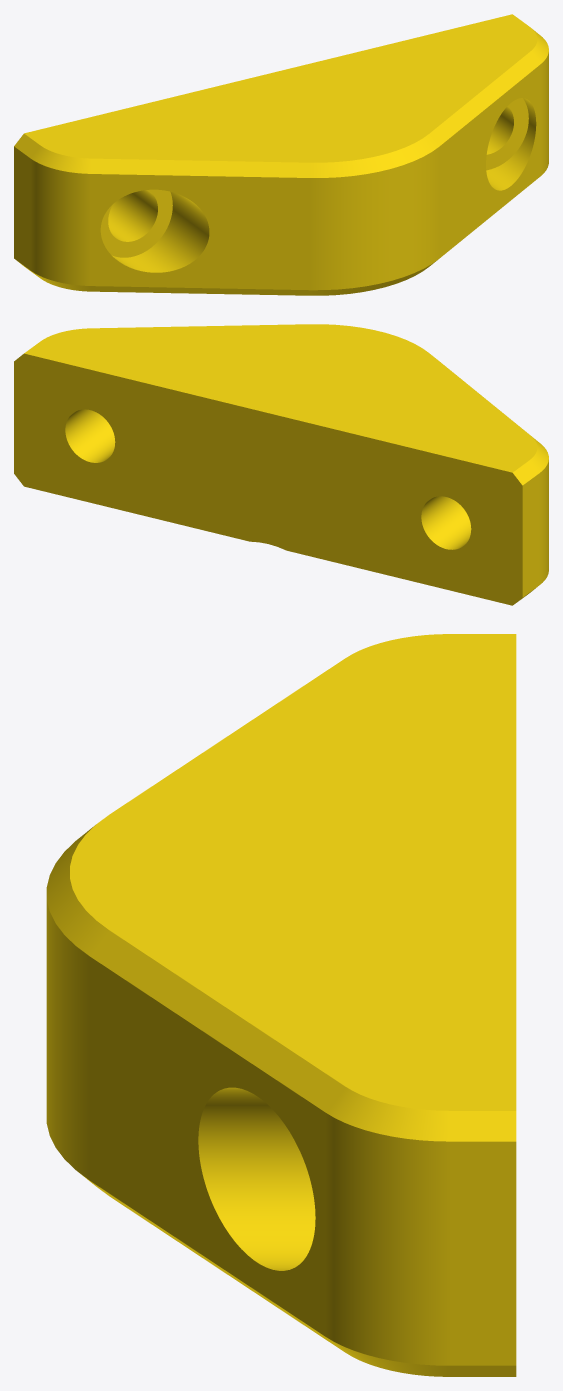
Rendered from A26_S109_cappedBearingBlock.gltf.
The picture shows the model from 3 angles, top to bottom: view 1: azimuth 30°, elevation 25°; view 2: azimuth 150°, elevation 25°; view 3: azimuth 270°, elevation 25°; orthographic projection. The views are drawn at different scales.
Visible parts, largest first — view 1: mesh21252, mesh21257, mesh21243, mesh21256, mesh21247, mesh21254, mesh21258, mesh21251, mesh21253, mesh21260, mesh21246, mesh21259 (+8 smaller); view 2: mesh21261, mesh21252, mesh21260, mesh21263, mesh21246, mesh21247, mesh21255, mesh21249; view 3: mesh21252, mesh21256, mesh21240, mesh21262, mesh21238, mesh21243, mesh21251, mesh21250, mesh21253, mesh21248, mesh21237.
Part boxes in pixels (x1,y1,x2,y2): mesh21252: [24, 14, 537, 162]; mesh21257: [91, 174, 309, 290]; mesh21243: [310, 146, 439, 290]; mesh21256: [439, 64, 540, 257]; mesh21247: [30, 159, 90, 285]; mesh21254: [91, 158, 310, 177]; mesh21258: [112, 191, 209, 272]; mesh21251: [429, 51, 540, 146]; mesh21253: [310, 134, 439, 177]; mesh21260: [108, 190, 157, 241]; mesh21246: [14, 146, 30, 270]; mesh21259: [100, 189, 172, 257]; mesh21261: [14, 353, 522, 605]; mesh21252: [24, 324, 537, 472]; mesh21260: [421, 496, 471, 549]; mesh21263: [65, 409, 115, 462]; mesh21246: [522, 474, 539, 597]; mesh21247: [539, 460, 548, 584]; mesh21255: [529, 437, 548, 473]; mesh21249: [513, 461, 538, 485]; mesh21252: [70, 634, 516, 1110]; mesh21256: [90, 957, 325, 1336]; mesh21240: [326, 1113, 449, 1365]; mesh21262: [198, 1087, 315, 1270]; mesh21238: [450, 1141, 516, 1365]; mesh21243: [46, 900, 89, 1180]; mesh21251: [90, 930, 345, 1112]; mesh21250: [326, 1087, 449, 1141]; mesh21253: [46, 825, 109, 956]; mesh21248: [450, 1111, 516, 1141]; mesh21237: [327, 1338, 449, 1376].
Size of the model in its own units: 0.0508 by 0.0127 by 0.0203.
